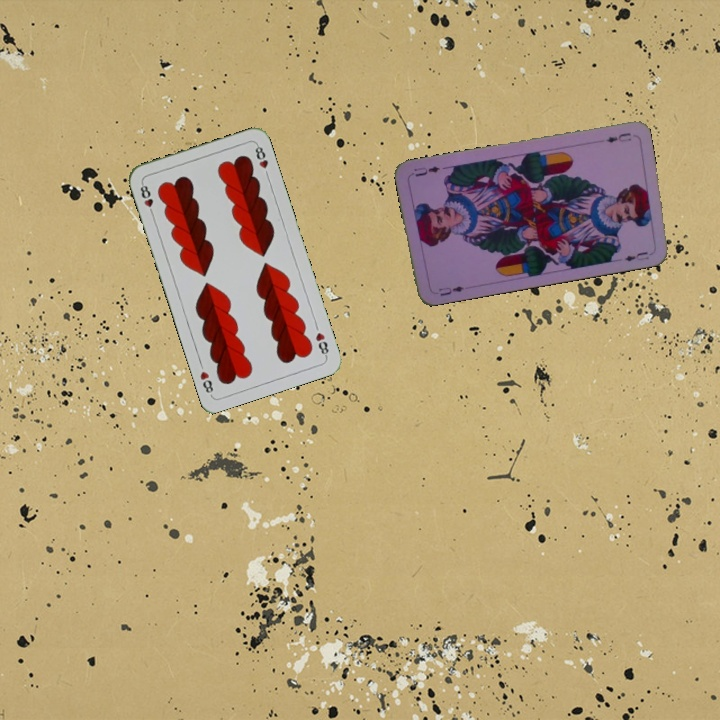EU: (435, 282, 466, 298), (602, 129, 633, 145)
H8: (136, 179, 156, 218), (311, 328, 331, 360)
